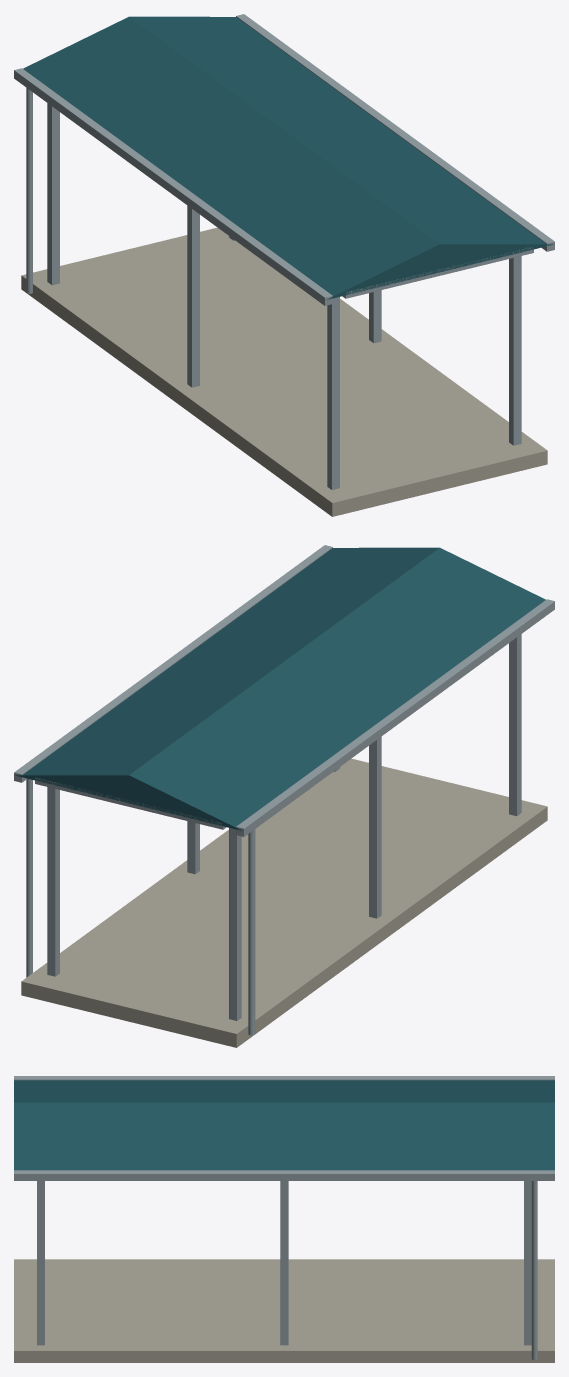
The model's file is covered-walkway.glb.
3 views of the same model, one above another, from view 1: azimuth 30°, elevation 25°; view 2: azimuth 150°, elevation 25°; view 3: azimuth 270°, elevation 25° (orthographic). The views are drawn at different scales.
Visible parts, largest first — view 1: Continuous_Roof, Walkway_Slab, Gutter, Gutter.001, Structural_Post, Structural_Post.003, Structural_Post.002, Structural_Post.001, Downpipe, End_Connector, Structural_Post.004; view 2: Continuous_Roof, Walkway_Slab, Gutter, Gutter.001, Structural_Post.002, Structural_Post.005, Structural_Post, Structural_Post.001, Downpipe, Downpipe.001, End_Connector.001, Structural_Post.004; view 3: Walkway_Slab, Continuous_Roof, Gutter.001, Gutter, Structural_Post.004, Structural_Post.003, Structural_Post.005, Downpipe.001.
Part boxes in pixels (box(x1,y1,x2,y2)): Continuous_Roof: box(23, 16, 553, 299); Walkway_Slab: box(21, 227, 547, 516); Gutter: box(14, 68, 332, 305); Gutter.001: box(236, 14, 554, 251); Structural_Post: box(327, 297, 339, 489); Structural_Post.003: box(509, 256, 521, 445); Structural_Post.002: box(47, 103, 59, 285); Structural_Post.001: box(187, 205, 199, 387); Downpipe: box(26, 88, 32, 293); End_Connector: box(342, 247, 533, 298); Structural_Post.004: box(369, 290, 381, 343); Continuous_Roof: box(15, 547, 545, 830); Walkway_Slab: box(21, 758, 547, 1047); Gutter: box(236, 599, 554, 836); Gutter.001: box(14, 545, 332, 782); Structural_Post.002: box(229, 828, 241, 1020); Structural_Post.005: box(47, 787, 59, 976); Structural_Post: box(509, 634, 521, 816); Structural_Post.001: box(369, 736, 381, 918); Downpipe: box(248, 829, 255, 1035); Downpipe.001: box(26, 779, 32, 977); End_Connector.001: box(35, 777, 226, 829); Structural_Post.004: box(187, 821, 199, 874); Walkway_Slab: box(14, 1259, 554, 1362); Continuous_Roof: box(14, 1080, 554, 1170); Gutter.001: box(14, 1170, 554, 1180); Gutter: box(14, 1076, 554, 1080); Structural_Post.004: box(280, 1181, 288, 1345); Structural_Post.003: box(37, 1181, 44, 1345); Structural_Post.005: box(524, 1181, 531, 1345); Downpipe.001: box(531, 1181, 537, 1360).
Size of the model in its own units: 3.42 by 3.5 by 8.
